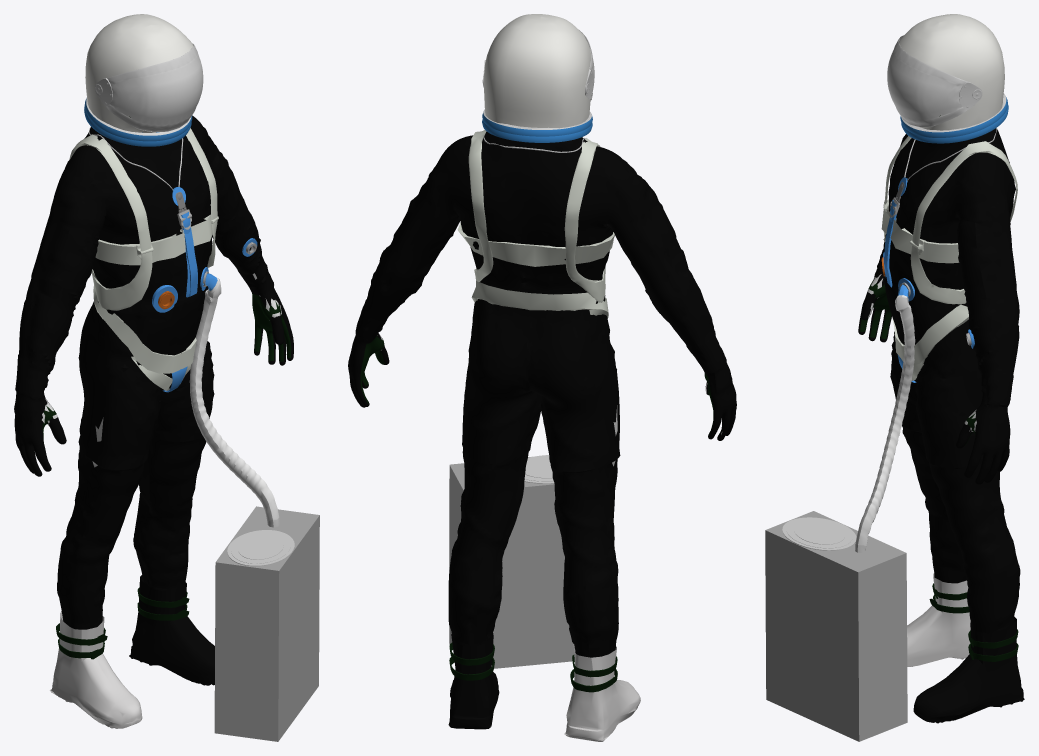
File: gemini_suit_lod0.glb
3 renders of one model, left to right at view 1: azimuth 30°, elevation 25°; view 2: azimuth 150°, elevation 25°; view 3: azimuth 270°, elevation 25°, orthographic. The views are drawn at different scales.
Visible parts, largest first — view 1: gemini_suit_lod0; view 2: gemini_suit_lod0; view 3: gemini_suit_lod0.
Part boxes in pixels (x1=…): gemini_suit_lod0: x1=14, y1=14, x2=319, y2=741; gemini_suit_lod0: x1=348, y1=14, x2=736, y2=741; gemini_suit_lod0: x1=765, y1=14, x2=1024, y2=741.
Size of the model in its own units: 0.9951 by 2 by 0.7095.
